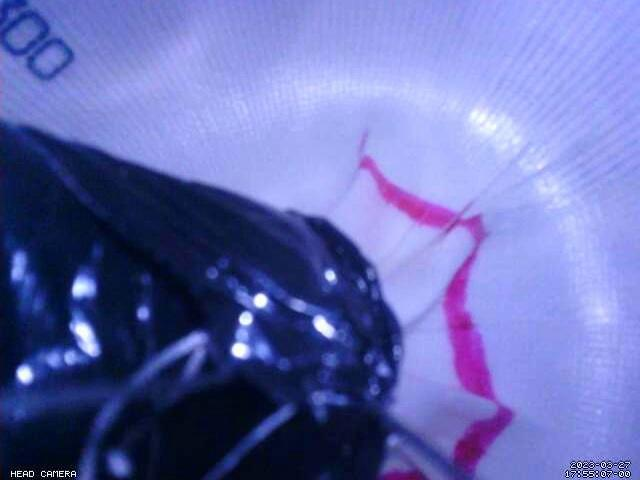red-circle: (360, 155, 516, 480)
